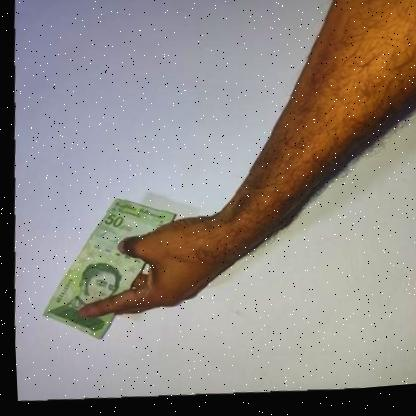fifty-front-vef: (32, 190, 180, 350)
